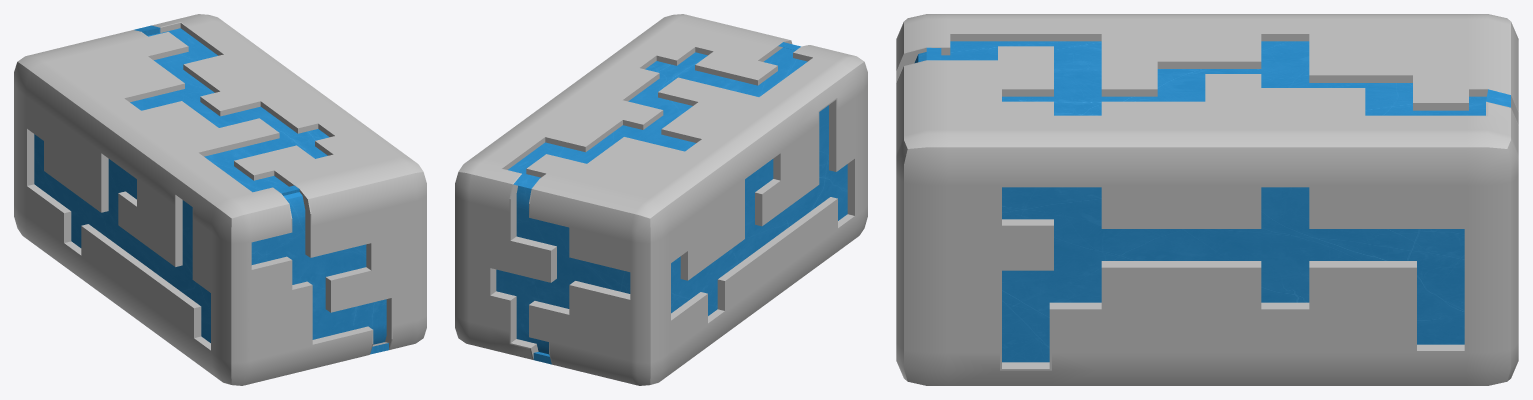
Rendered from CyberRectV2.fbx.
3 renders of one model, left to right at view 1: azimuth 30°, elevation 25°; view 2: azimuth 150°, elevation 25°; view 3: azimuth 270°, elevation 25°, orthographic. The views are drawn at different scales.
Visible parts, largest first — view 1: Box001; view 2: Box001; view 3: Box001.
Boxes of the visible parts, box(x1,y1,x2,y2) form: Box001: box(14, 14, 426, 385); Box001: box(455, 14, 867, 385); Box001: box(896, 14, 1518, 385).
Bounding box in the file's own units: 47.39 × 40 × 90.09.
Materials: 7 (1 with a texture image).
